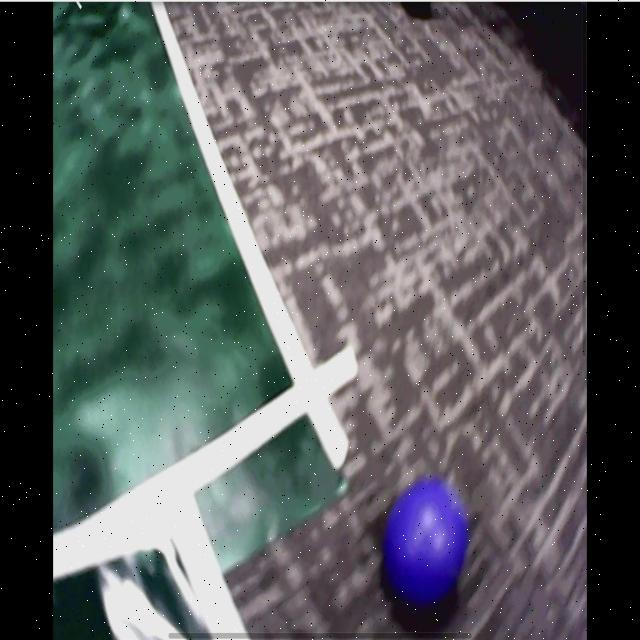ball: (386, 478, 466, 602)
